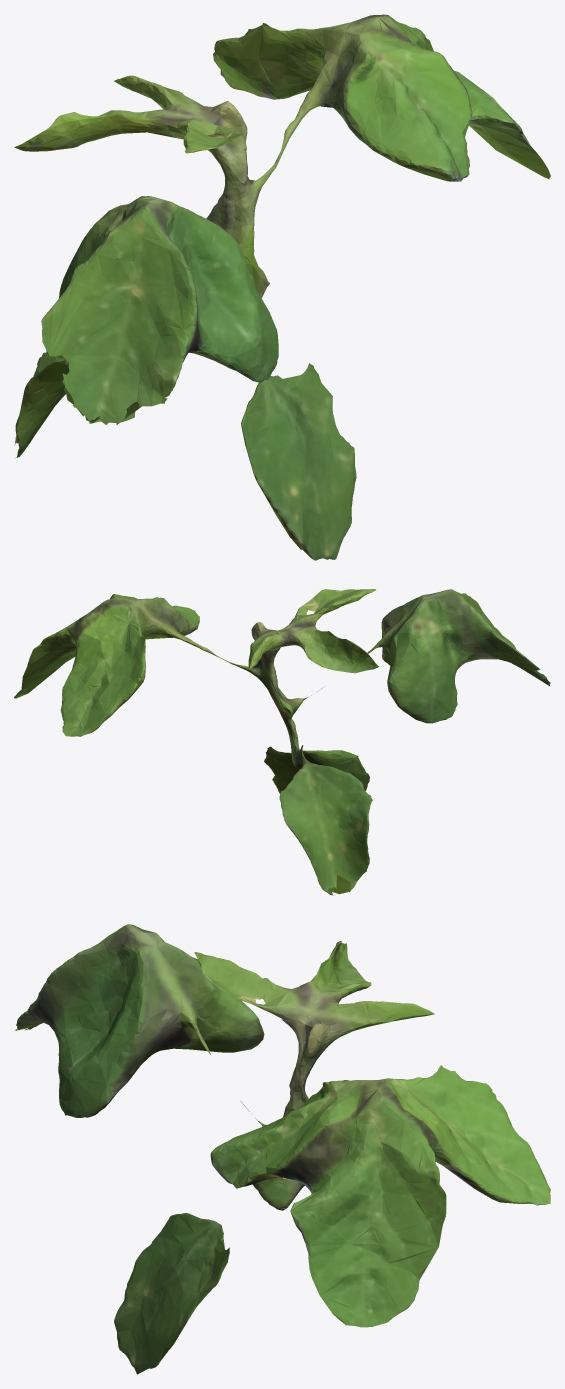
The model's file is min_sculpt.obj.
The picture shows the model from 3 angles, top to bottom: view 1: azimuth 30°, elevation 25°; view 2: azimuth 150°, elevation 25°; view 3: azimuth 270°, elevation 25°; orthographic projection. The views are drawn at different scales.
Parts seen in each view (by area): view 1: sculpt; view 2: sculpt; view 3: sculpt.
Boxes of the visible parts, x1,y1,x2,y2 form: sculpt: [14, 14, 550, 560]; sculpt: [14, 589, 550, 895]; sculpt: [15, 924, 550, 1374].
Bounding box in the file's own units: 6.59 × 4.06 × 5.31.
Materials: 3 (3 with a texture image).
